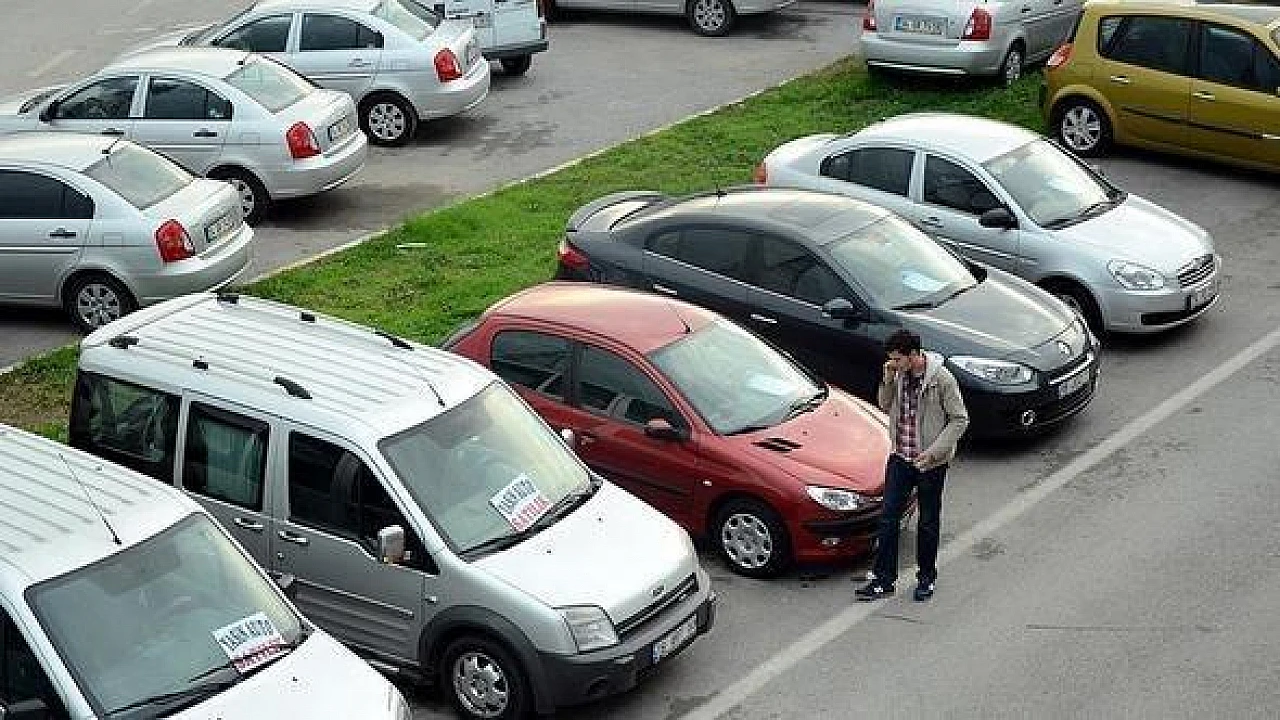Car: (68, 293, 715, 720), (555, 188, 1099, 438), (443, 282, 887, 577), (0, 424, 411, 720), (755, 113, 1219, 334), (0, 48, 367, 222), (122, 0, 490, 146), (0, 132, 254, 332), (1041, 0, 1280, 173), (859, 0, 1085, 84), (420, 0, 547, 76), (545, 0, 797, 37)
